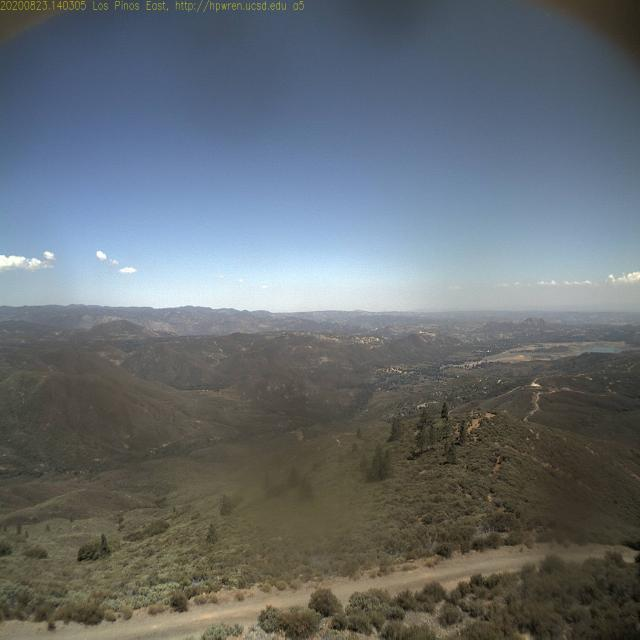smoke: (364, 288, 396, 317)
